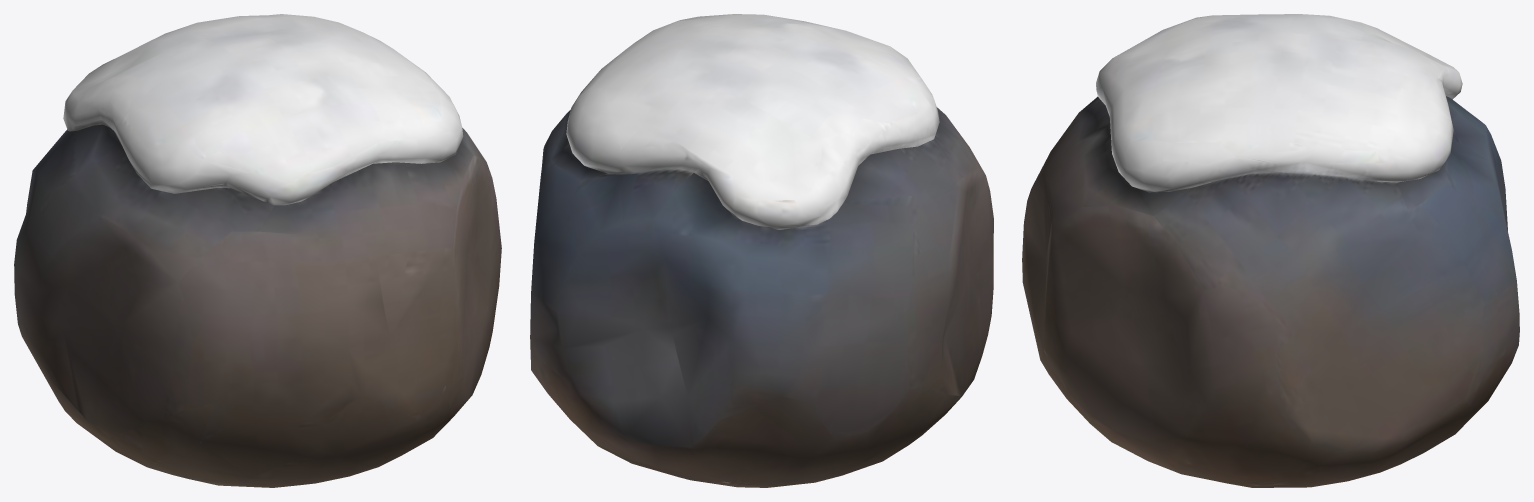
File: lg-snow-boulder.glb
3 renders of one model, left to right at view 1: azimuth 30°, elevation 25°; view 2: azimuth 150°, elevation 25°; view 3: azimuth 270°, elevation 25°, orthographic. The views are drawn at different scales.
Parts seen in each view (by area): view 1: geometry_0; view 2: geometry_0; view 3: geometry_0.
Boxes of the visible parts, box(x1,y1,x2,y2) form: geometry_0: box(14, 14, 501, 487); geometry_0: box(530, 14, 993, 487); geometry_0: box(1022, 14, 1519, 487).
Size of the model in its own units: 0.9982 by 0.857 by 1.
1 material, 1 textured.
